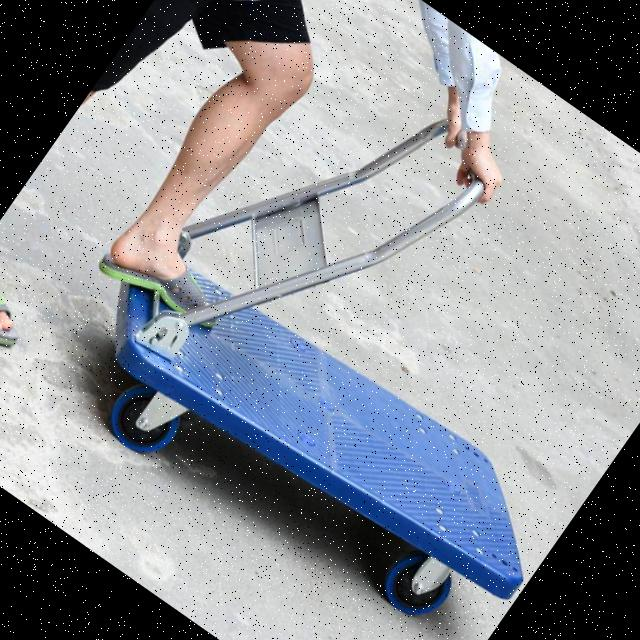Person: (0, 0, 558, 529)
